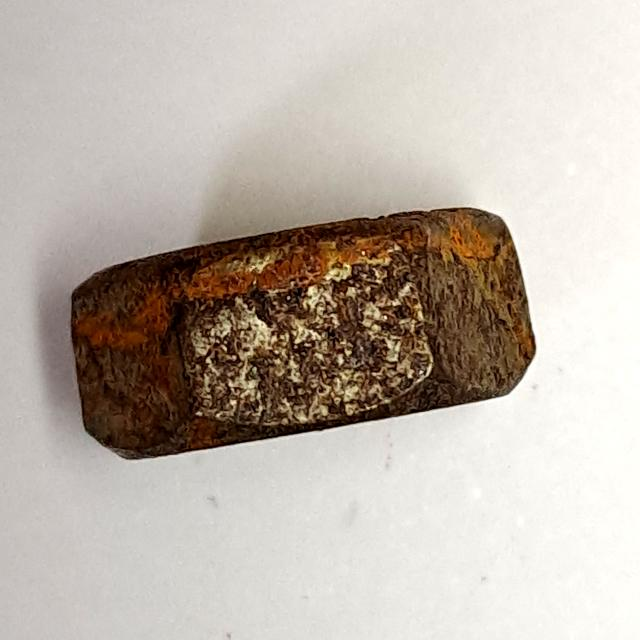Side_Rust: (59, 175, 558, 477)
